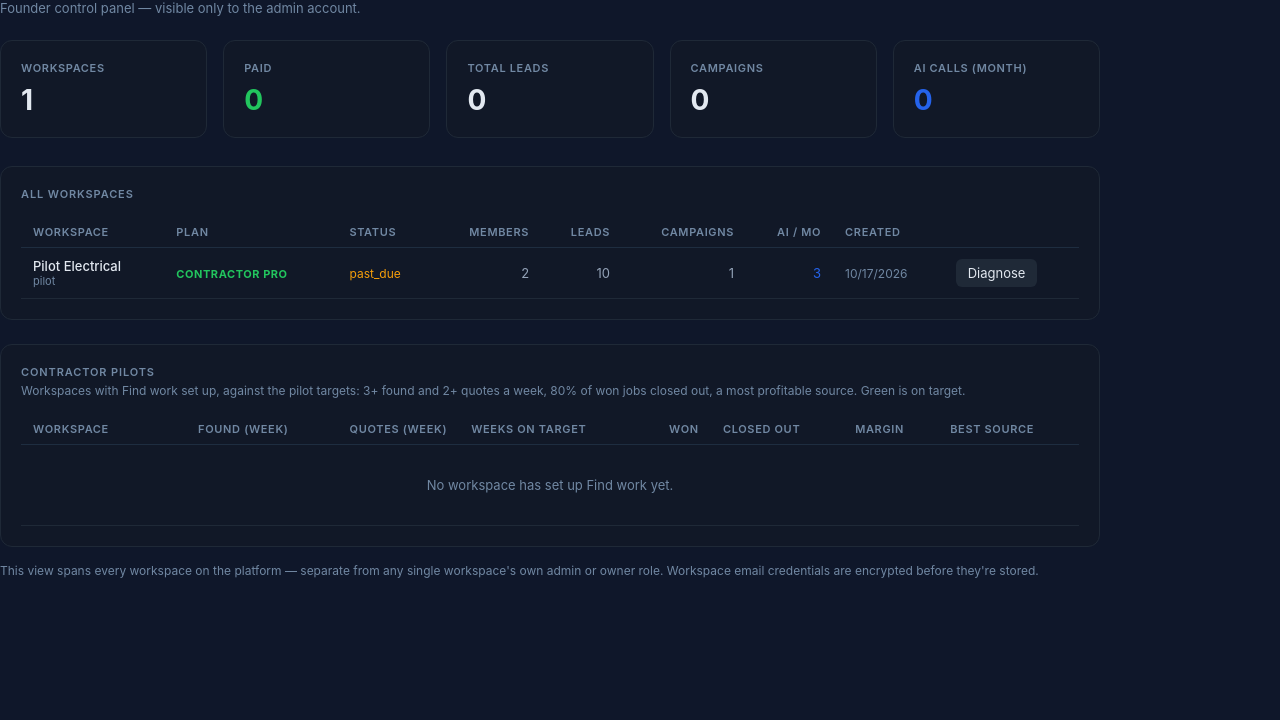
Test case: AdminView › Diagnose opens a read-only diagnostics view for that workspace
Click the button "Diagnose". click: (997, 273)
box: [956,259,1037,287]
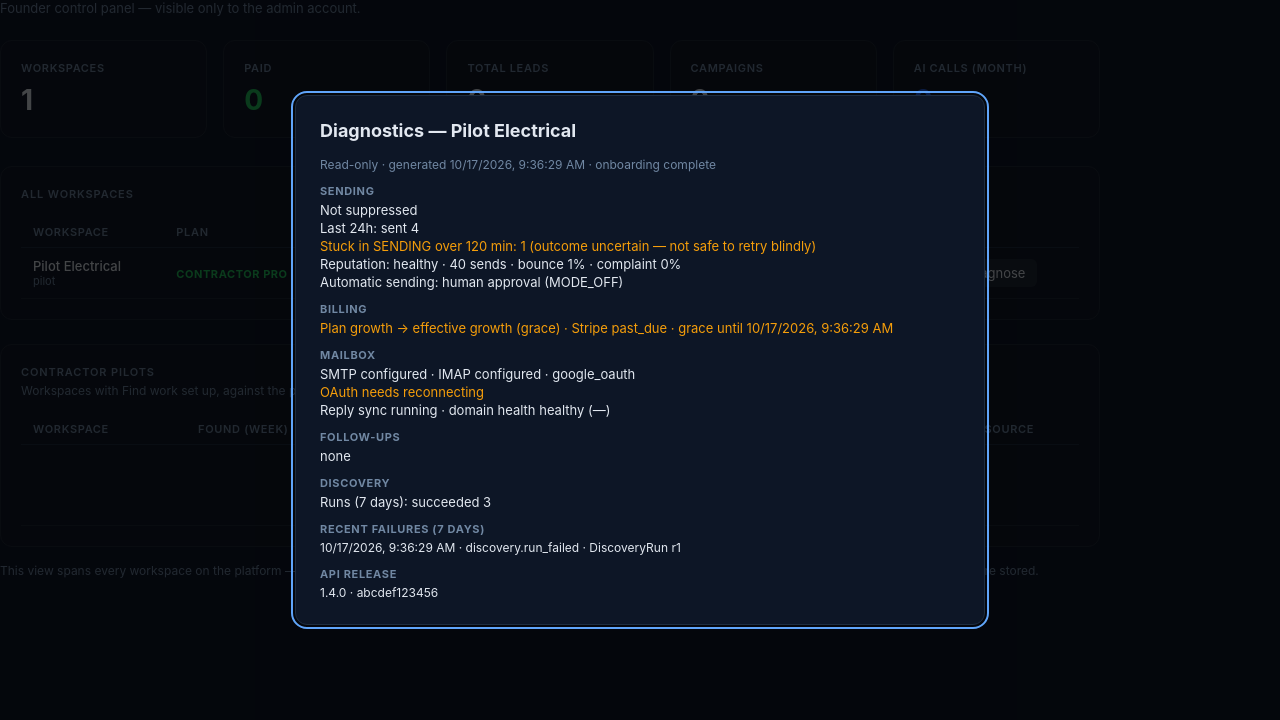
Expected: the text "Diagnostics — Pilot Electrical" is shown, [320,120,576,141]
Expected: the text "Stuck in SENDING over 120 min: 1" is shown, [320,238,816,254]
Expected: the text "OAuth needs reconnecting" is shown, [320,384,484,400]
